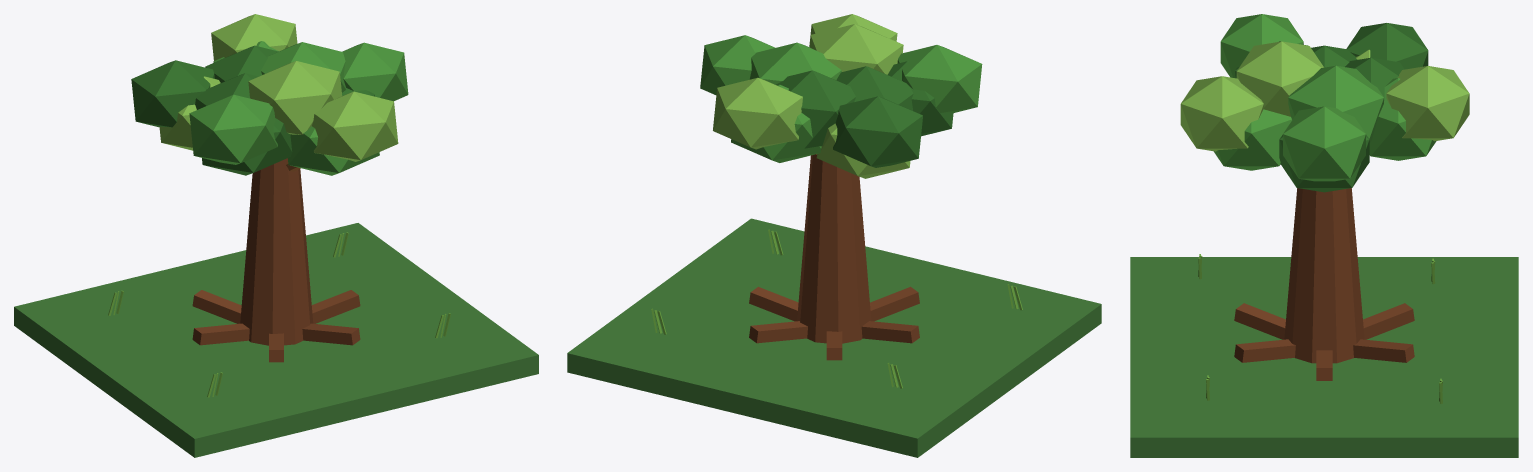
The model's file is large_tree.glb.
3 renders of one model, left to right at view 1: azimuth 30°, elevation 25°; view 2: azimuth 150°, elevation 25°; view 3: azimuth 270°, elevation 25°, orthographic. The views are drawn at different scales.
Parts seen in each view (by area): view 1: TerrainBase, AncientTrunk, TreeCrown.007, TreeCrown.009, UpperCrown.002, TreeCrown.005, TreeCrown.001, TreeCrown.003, TreeCrown.008, UpperCrown.001, TreeCrown.006, UpperCrown.003 (+6 smaller); view 2: TerrainBase, AncientTrunk, TreeCrown.005, TreeCrown.003, TreeCrown.007, UpperCrown.002, UpperCrown.003, TreeCrown.001, UpperCrown.001, UpperCrown, TreeCrown.002, TreeCrown.004 (+6 smaller); view 3: TerrainBase, AncientTrunk, TreeCrown.001, TreeCrown.003, TreeCrown.009, UpperCrown.002, UpperCrown.001, TreeCrown.007, TreeCrown.005, TreeCrown.008, TreeCrown.002, TreeCrown (+7 smaller).
Part boxes in pixels (x1,y1,x2,y2): TerrainBase: (14,223,538,457); AncientTrunk: (240,158,313,345); TreeCrown.007: (189,94,277,164); TreeCrown.009: (312,91,398,161); UpperCrown.002: (248,61,342,134); TreeCrown.005: (131,60,214,127); TreeCrown.001: (342,42,408,101); TreeCrown.003: (211,14,297,60); TreeCrown.008: (287,126,379,175); UpperCrown.001: (261,42,346,92); TreeCrown.006: (202,118,292,175); UpperCrown.003: (205,45,278,82); TerrainBase: (567,218,1101,457); AncientTrunk: (797,154,871,343); TreeCrown.005: (833,96,922,167); TreeCrown.003: (713,77,802,149); TreeCrown.007: (897,45,982,112); UpperCrown.002: (809,24,903,74); UpperCrown.003: (776,70,855,148); TreeCrown.001: (700,35,775,94); UpperCrown.001: (749,42,841,84); UpperCrown: (836,66,913,110); TreeCrown.002: (731,84,821,162); TreeCrown.004: (816,123,910,178); TerrainBase: (1130,257,1518,457); AncientTrunk: (1284,188,1364,363); TreeCrown.001: (1283,106,1365,181); TreeCrown.003: (1386,66,1469,141); TreeCrown.009: (1180,76,1263,151); UpperCrown.002: (1236,41,1323,116); UpperCrown.001: (1288,65,1383,142); TreeCrown.007: (1220,14,1303,78); TreeCrown.005: (1346,23,1428,69); TreeCrown.008: (1214,109,1291,170); TreeCrown.002: (1369,78,1436,160); TreeCrown: (1279,134,1369,192).
Bounding box in the file's own units: 11 × 9.27 × 10.
